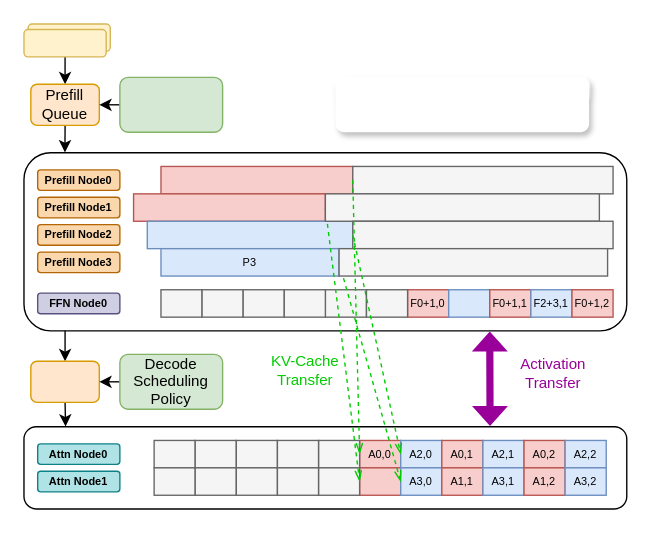
The diagram is 651 pixels wide and 533 high, and some of its shapes have lost their labels. The shapes that lost their labels are listed below. From the top down, each one's centre as x and y in pixels, then its label:
At pixel 64 42: "Requests".
At pixel 171 104: "Prefill Scheduling Policy".
At pixel 463 106: "Annotation: <Type><Batch>,<Layer>".
At pixel 256 179: "P0".
At pixel 228 206: "P1".
At pixel 249 234: "P2".
At pixel 468 302: "F2+3,0".
At pixel 64 381: "Decode Queue".
At pixel 379 480: "A1,0".
